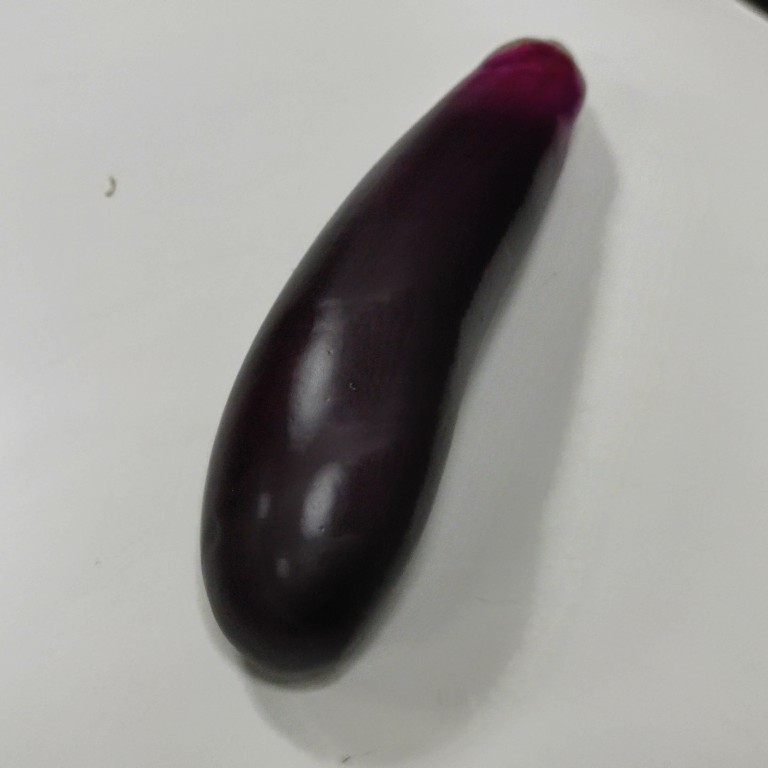fruit_eggplant: (194, 29, 593, 682)
